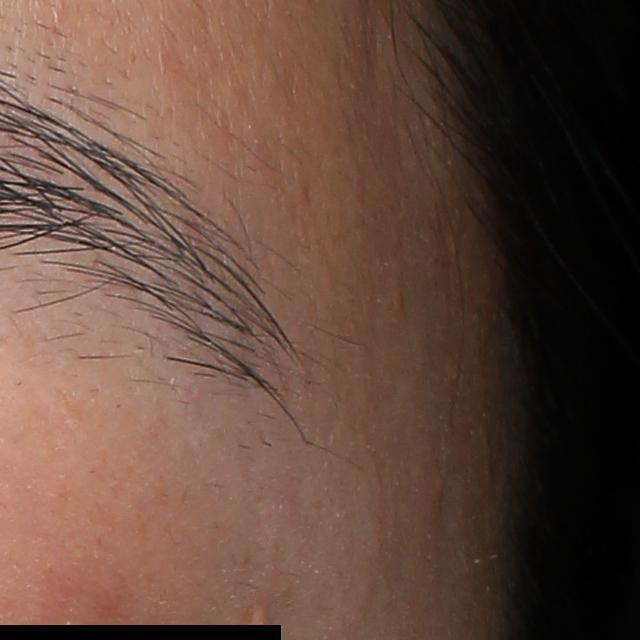pustule: (249, 601, 273, 640)
